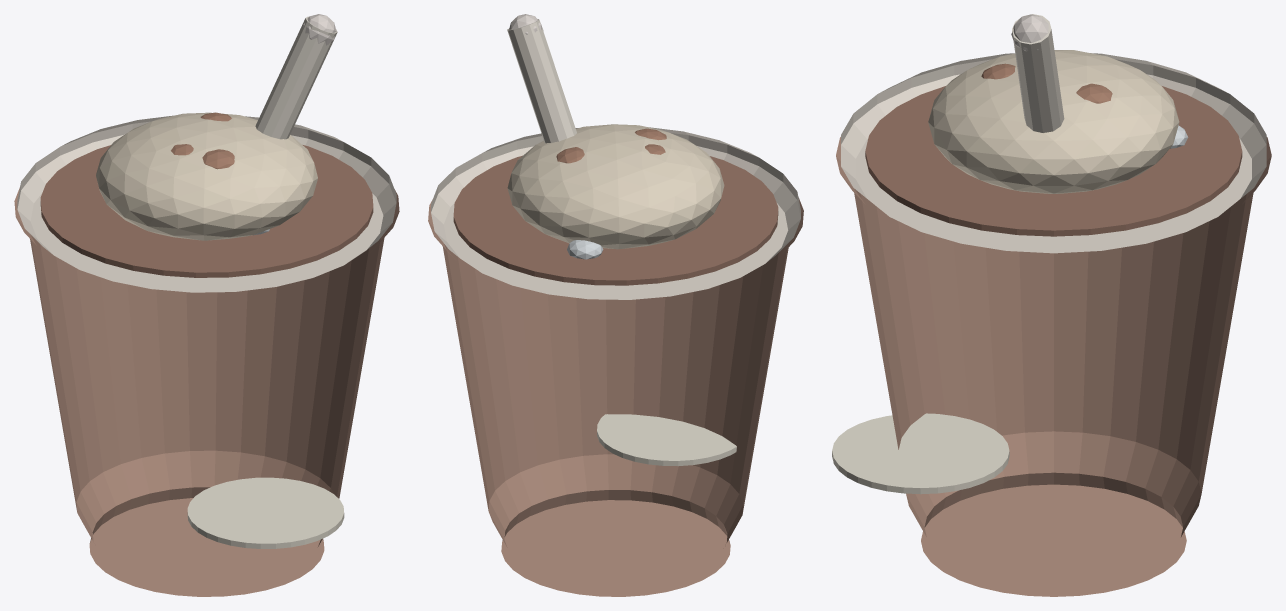
Rendered from ca_cao.glb.
The picture shows the model from 3 angles, left to right: view 1: azimuth 30°, elevation 25°; view 2: azimuth 150°, elevation 25°; view 3: azimuth 270°, elevation 25°; orthographic projection. The views are drawn at different scales.
Visible parts, largest first — view 1: obj_0000, obj_0013, obj_0001, obj_0002, obj_0003, obj_0004, obj_0005, obj_0015; view 2: obj_0000, obj_0013, obj_0001, obj_0002, obj_0003, obj_0004, obj_0011; view 3: obj_0000, obj_0013, obj_0001, obj_0002, obj_0003, obj_0004, obj_0005.
Boxes of the visible parts, x1=… form: obj_0000: x1=14, y1=187, x2=399, y2=596; obj_0013: x1=96, y1=112, x2=317, y2=240; obj_0001: x1=40, y1=145, x2=373, y2=277; obj_0002: x1=17, y1=115, x2=396, y2=292; obj_0003: x1=187, y1=477, x2=344, y2=548; obj_0004: x1=255, y1=16, x2=337, y2=139; obj_0005: x1=302, y1=14, x2=336, y2=45; obj_0015: x1=202, y1=149, x2=234, y2=169; obj_0000: x1=428, y1=197, x2=803, y2=596; obj_0013: x1=507, y1=124, x2=724, y2=249; obj_0001: x1=453, y1=155, x2=778, y2=285; obj_0002: x1=431, y1=127, x2=800, y2=299; obj_0003: x1=597, y1=414, x2=736, y2=466; obj_0004: x1=507, y1=19, x2=576, y2=143; obj_0011: x1=567, y1=240, x2=603, y2=259; obj_0000: x1=836, y1=137, x2=1271, y2=596; obj_0013: x1=928, y1=50, x2=1179, y2=193; obj_0001: x1=865, y1=86, x2=1242, y2=236; obj_0002: x1=841, y1=53, x2=1266, y2=253; obj_0003: x1=832, y1=413, x2=1009, y2=494; obj_0004: x1=1012, y1=14, x2=1064, y2=132; obj_0005: x1=1011, y1=14, x2=1048, y2=51.
Bounding box in the file's own units: 1.18 × 1.73 × 1.19.
